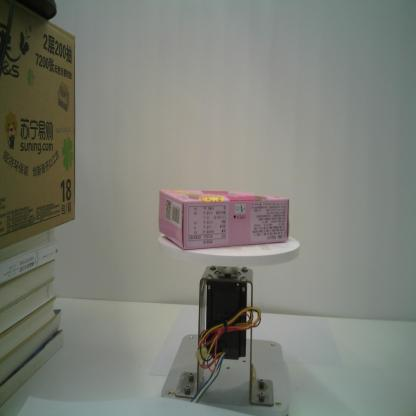Dessert: (154, 184, 290, 250)
